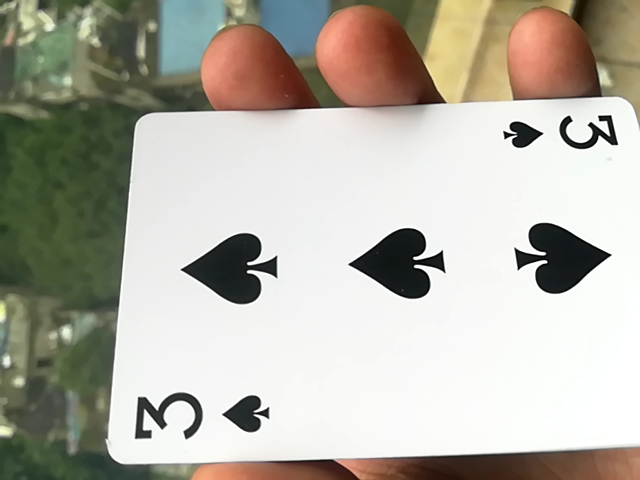ht 3: (88, 116, 637, 477)
